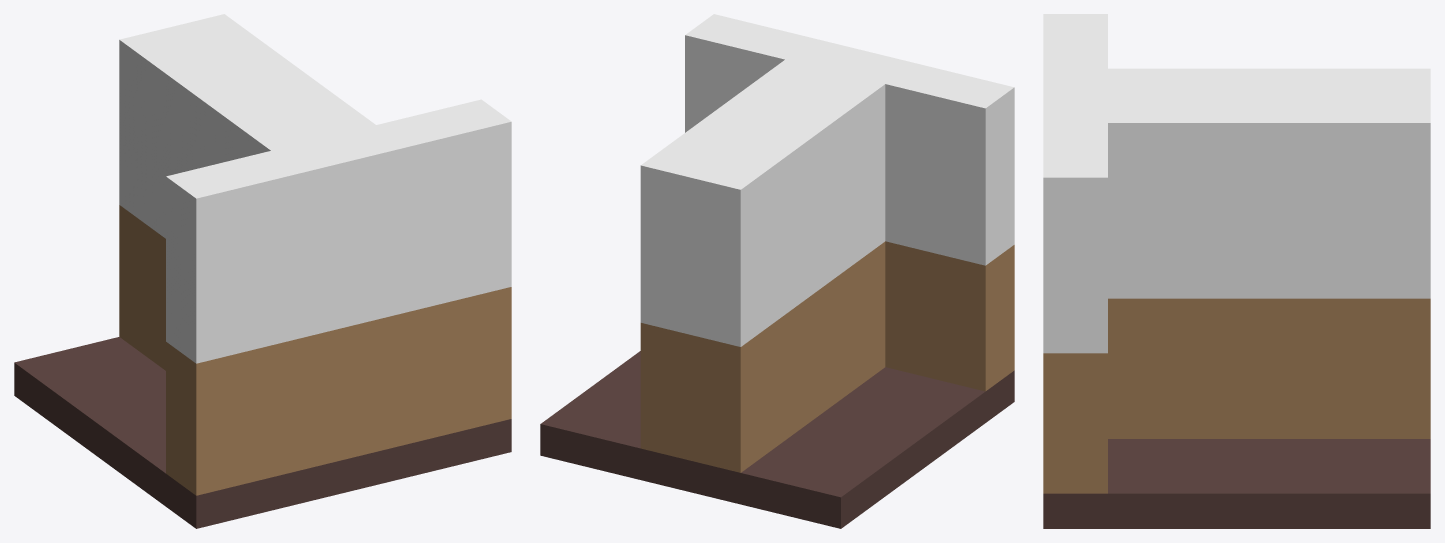
File: wall_T.FBX
The picture shows the model from 3 angles, left to right: view 1: azimuth 30°, elevation 25°; view 2: azimuth 150°, elevation 25°; view 3: azimuth 270°, elevation 25°; orthographic projection. The views are drawn at different scales.
Visible parts, largest first — view 1: Object257; view 2: Object257; view 3: Object257.
Boxes of the visible parts, x1=… form: Object257: x1=14, y1=14, x2=511, y2=528; Object257: x1=540, y1=14, x2=1014, y2=528; Object257: x1=1043, y1=14, x2=1430, y2=528.
Size of the model in its own units: 100 by 100 by 100.
